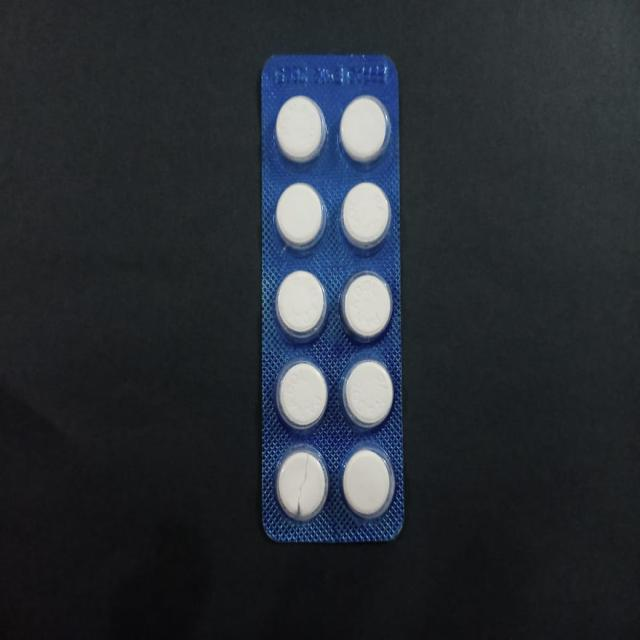defect: (275, 444, 332, 524)
